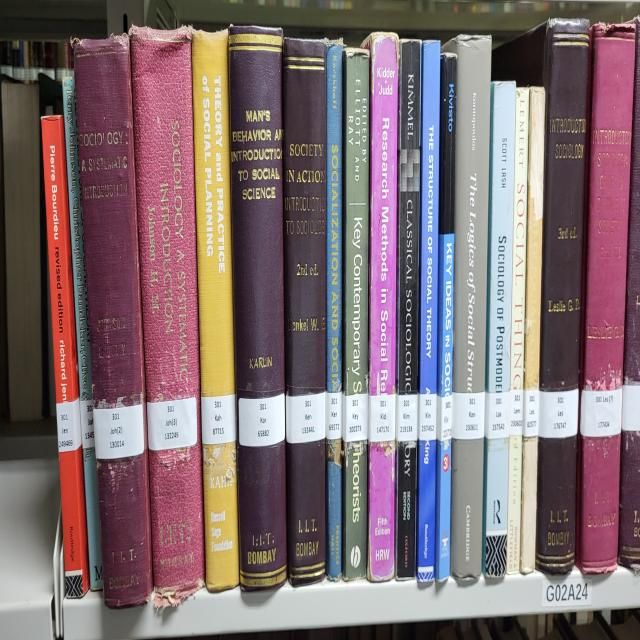Book: (492, 19, 589, 574), (75, 35, 152, 606), (130, 27, 205, 606), (229, 27, 288, 590), (576, 24, 635, 574), (192, 30, 239, 590), (444, 35, 491, 582), (282, 38, 326, 584), (41, 116, 89, 593), (365, 32, 399, 582), (482, 81, 516, 579), (342, 49, 370, 582), (395, 41, 421, 579), (416, 41, 440, 584), (520, 87, 545, 574), (326, 41, 342, 582), (435, 233, 454, 582), (510, 87, 530, 392)
Label: (94, 403, 145, 460), (146, 398, 198, 452), (239, 392, 285, 446), (580, 387, 622, 438), (285, 392, 326, 444), (539, 390, 579, 438), (201, 395, 236, 444), (451, 392, 485, 438), (56, 398, 81, 452), (342, 392, 368, 441), (369, 395, 396, 441), (485, 392, 510, 438), (396, 392, 418, 441), (419, 392, 436, 441), (326, 392, 342, 441), (522, 390, 539, 436), (80, 400, 95, 449), (438, 395, 452, 441), (510, 390, 524, 436)
